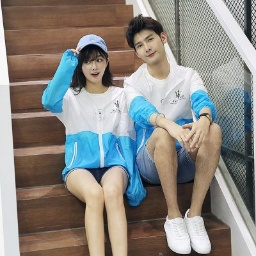face: (124, 16, 174, 68), (74, 39, 116, 97)
